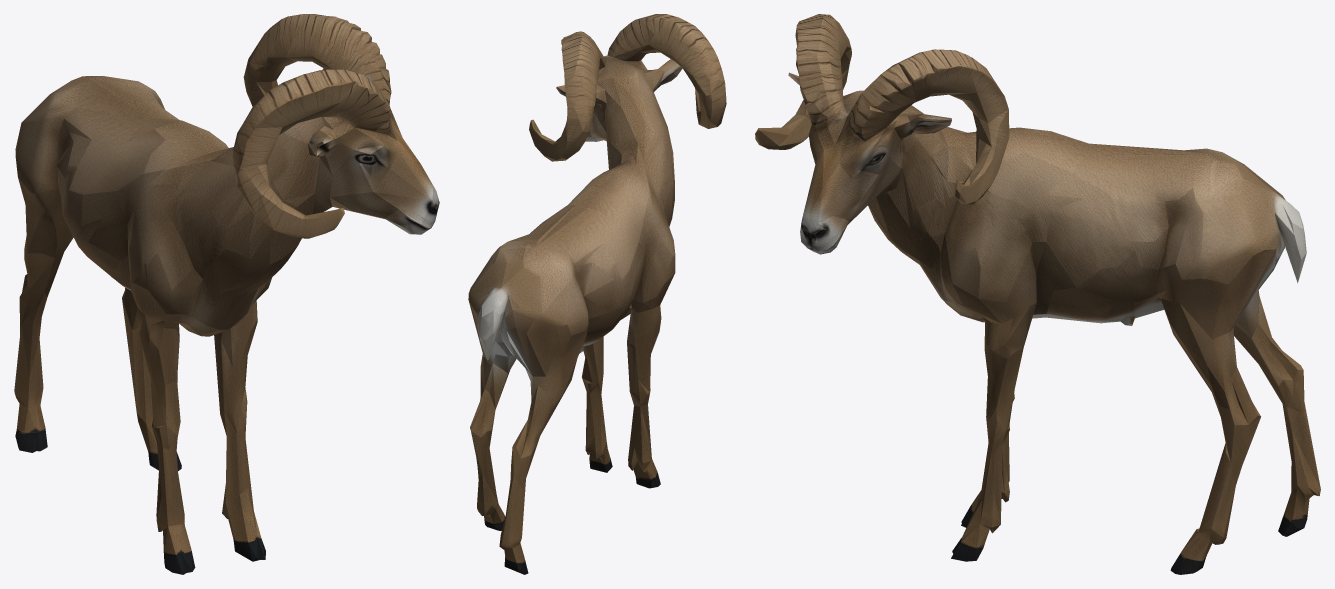
The model's file is bighorn.glb.
The picture shows the model from 3 angles, left to right: view 1: azimuth 30°, elevation 25°; view 2: azimuth 150°, elevation 25°; view 3: azimuth 270°, elevation 25°; orthographic projection. The views are drawn at different scales.
Size of the model in its own units: 0.7901 by 1.9 by 1.84.
Materials: 1 (1 with a texture image).
